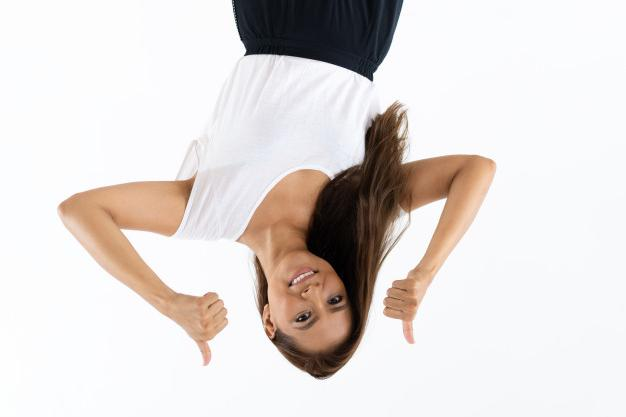thumbsdown: (193, 292, 228, 366), (383, 280, 417, 345)
